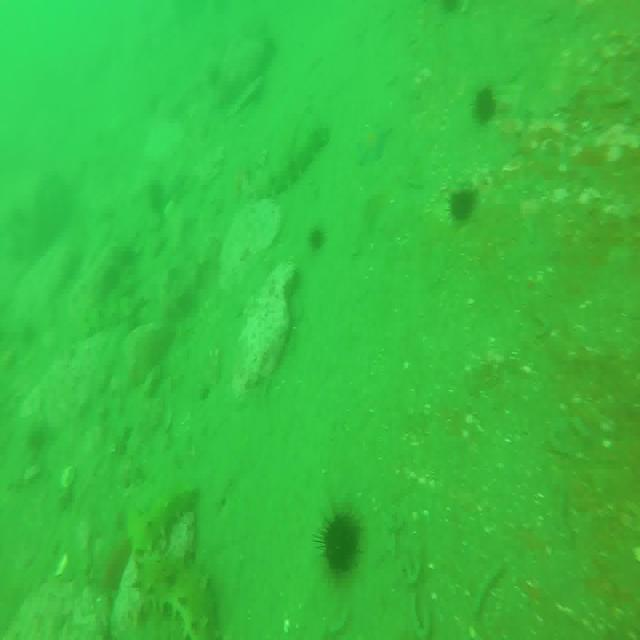echinus: (320, 507, 362, 570), (474, 82, 497, 128), (447, 186, 477, 219), (310, 223, 326, 255)
holothurian: (133, 489, 216, 640), (252, 128, 330, 207)
scallop: (61, 460, 79, 494)
starfish: (358, 116, 392, 168)
